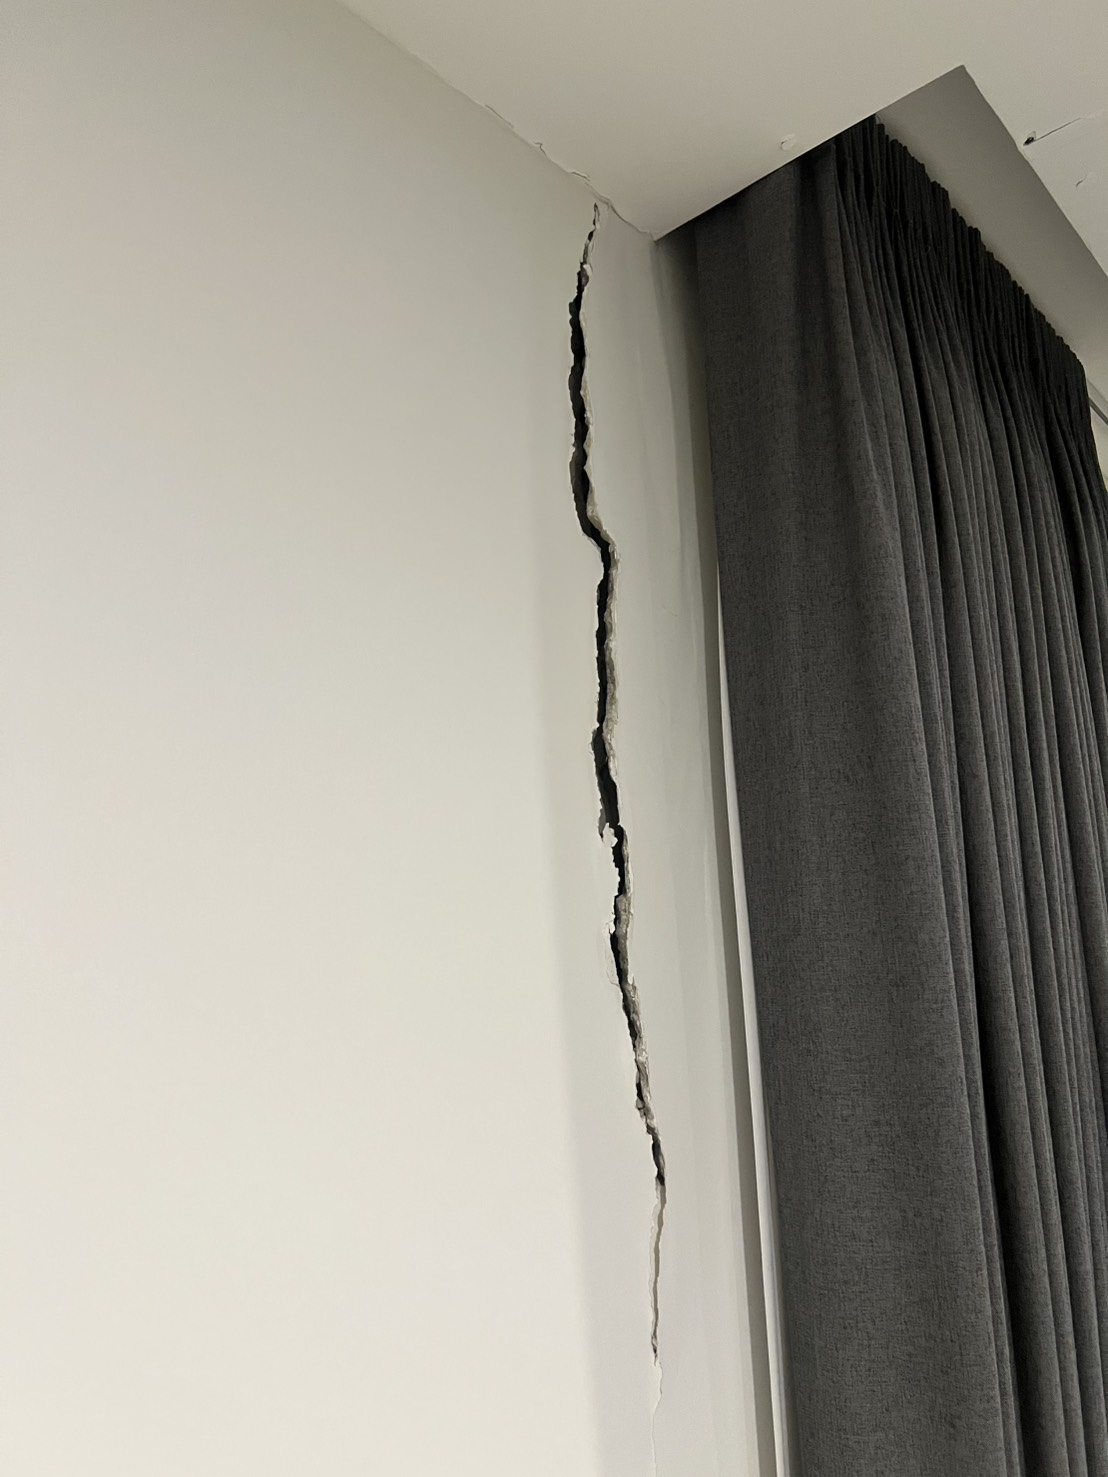High: (514, 189, 743, 1437)
